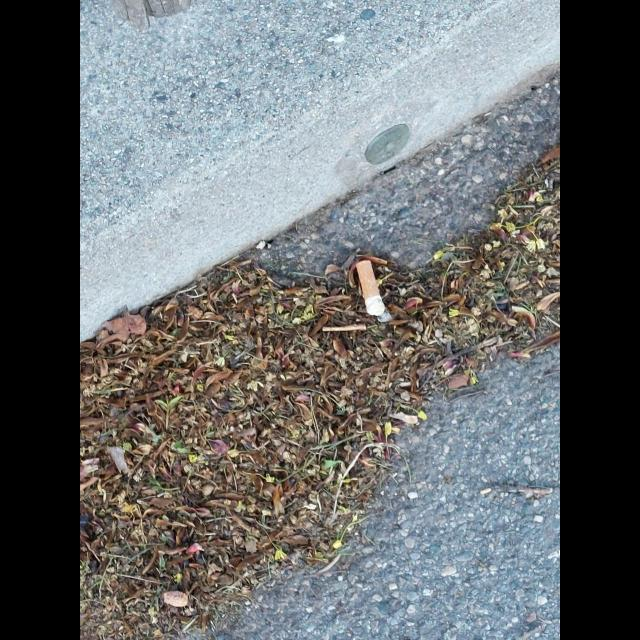cigarette: (356, 260, 392, 322)
